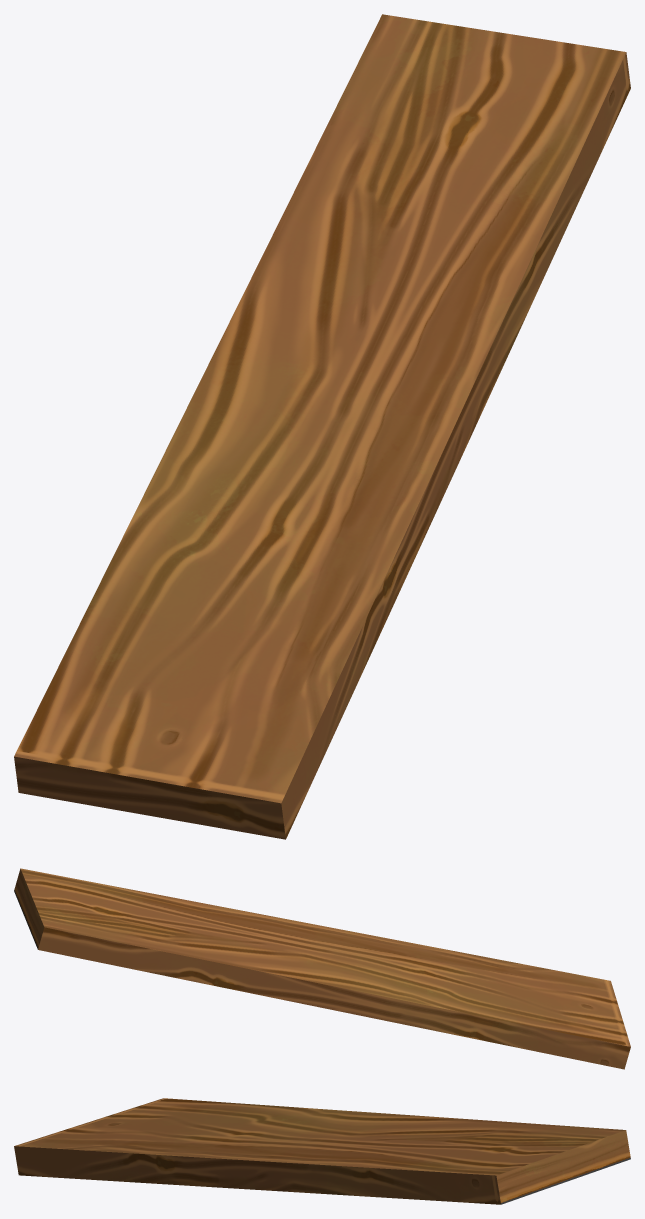
The picture shows the model from 3 angles, top to bottom: view 1: azimuth 30°, elevation 25°; view 2: azimuth 150°, elevation 25°; view 3: azimuth 270°, elevation 25°; orthographic projection. The views are drawn at different scales.
Parts seen in each view (by area): view 1: Cube.652; view 2: Cube.652; view 3: Cube.652.
Part boxes in pixels (x1,y1,x2,y2): Cube.652: (14, 14, 630, 839); Cube.652: (14, 868, 630, 1069); Cube.652: (14, 1098, 630, 1204).
Bounding box in the file's own units: 285 × 108 × 268.
1 material, 1 textured.
